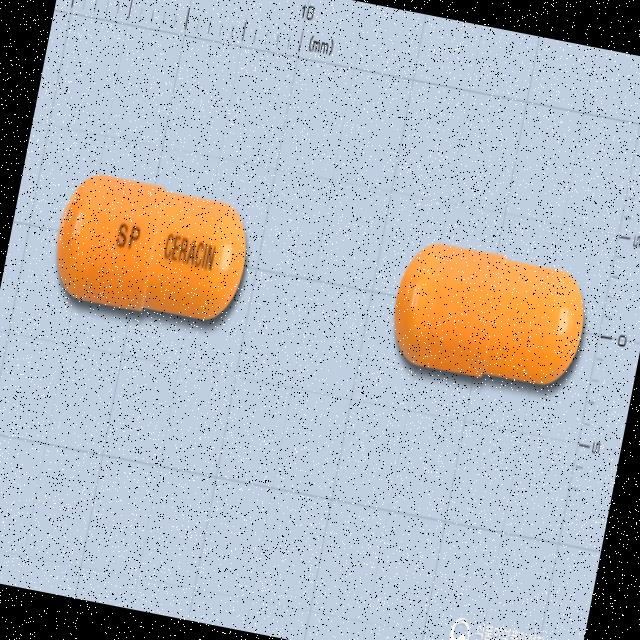Ceracin Cap: (379, 230, 602, 410), (41, 160, 262, 340)
